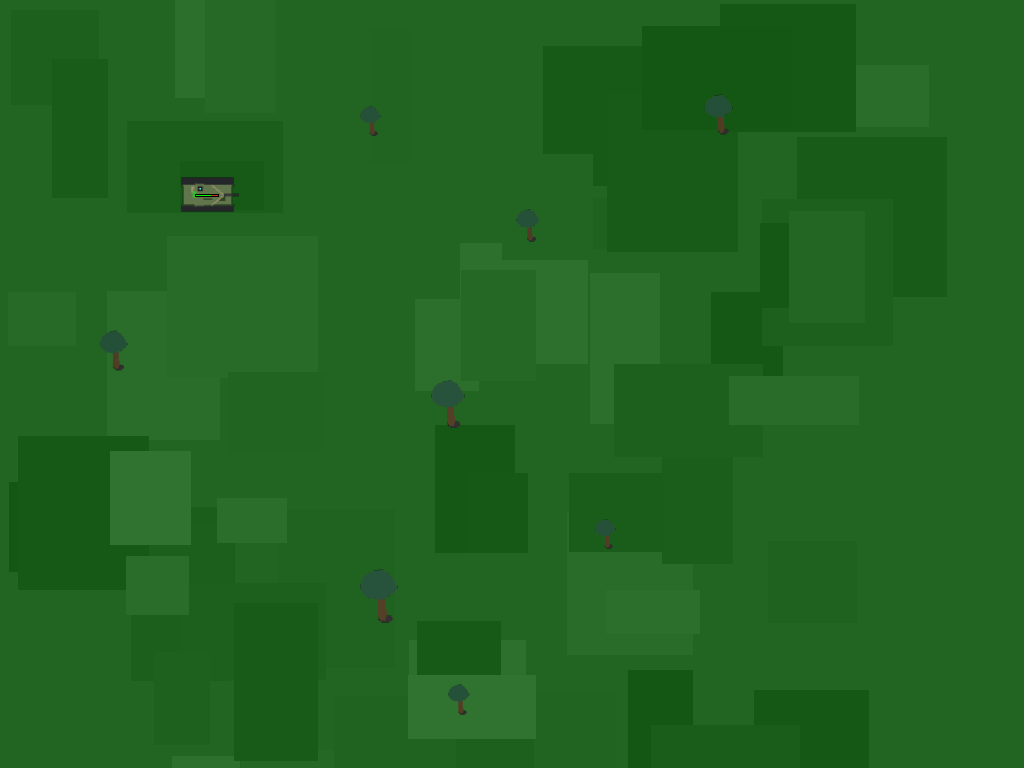M1A2_chn: (178, 164, 235, 221)
